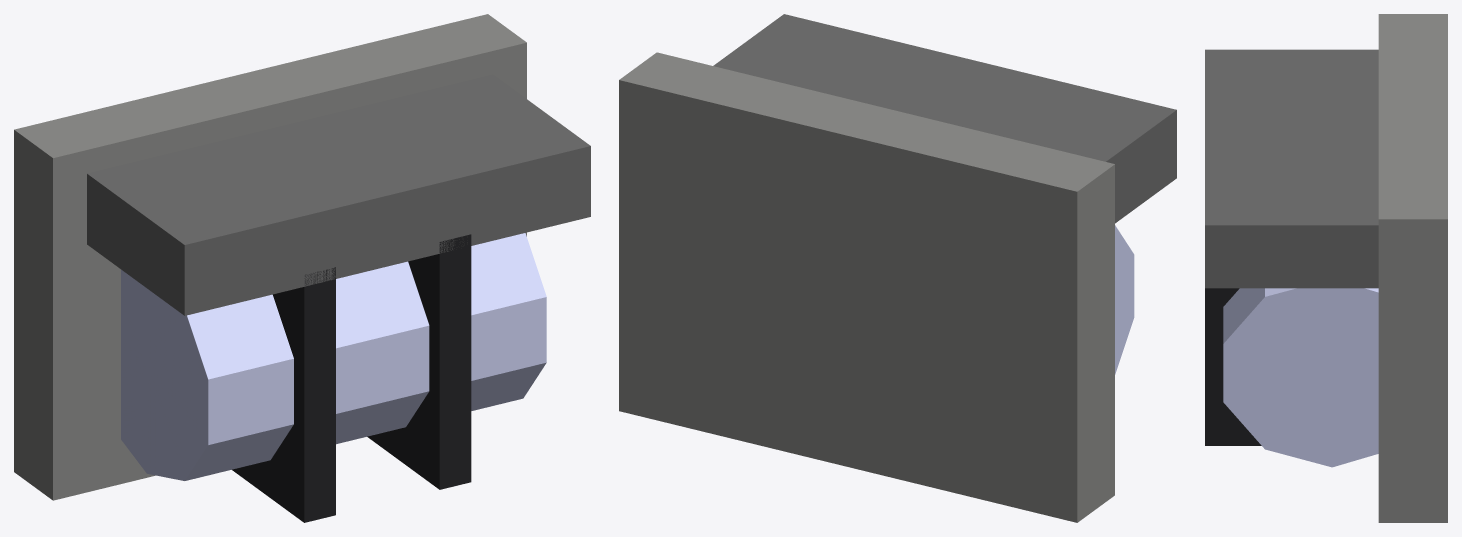
The model's file is oc_emergency_light_blue.obj.
3 renders of one model, left to right at view 1: azimuth 30°, elevation 25°; view 2: azimuth 150°, elevation 25°; view 3: azimuth 270°, elevation 25°, orthographic. The views are drawn at different scales.
Visible parts, largest first — view 1: oc_emergency_light_blue_1, oc_emergency_light_blue_0, oc_emergency_light_blue_2, oc_emergency_light_blue_4, oc_emergency_light_blue_3; view 2: oc_emergency_light_blue_0, oc_emergency_light_blue_1, oc_emergency_light_blue_2; view 3: oc_emergency_light_blue_1, oc_emergency_light_blue_0, oc_emergency_light_blue_2, oc_emergency_light_blue_4.
Part boxes in pixels (x1,y1,x2,y2): oc_emergency_light_blue_1: [87, 74, 590, 315]; oc_emergency_light_blue_0: [14, 14, 526, 500]; oc_emergency_light_blue_2: [121, 233, 546, 480]; oc_emergency_light_blue_4: [367, 234, 471, 489]; oc_emergency_light_blue_3: [232, 267, 335, 522]; oc_emergency_light_blue_0: [619, 52, 1114, 522]; oc_emergency_light_blue_1: [713, 14, 1176, 223]; oc_emergency_light_blue_2: [1115, 225, 1134, 374]; oc_emergency_light_blue_1: [1205, 49, 1378, 288]; oc_emergency_light_blue_0: [1378, 14, 1447, 522]; oc_emergency_light_blue_2: [1223, 288, 1378, 467]; oc_emergency_light_blue_4: [1205, 288, 1261, 445].
Bounding box in the file's own units: 0.42 × 0.29 × 0.21.
